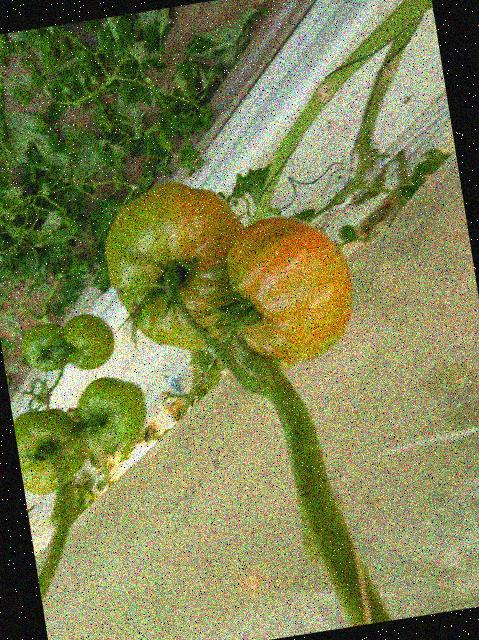b_green: (12, 403, 94, 497), (73, 371, 151, 451), (58, 310, 118, 373), (19, 321, 72, 375)
b_half_ripened: (96, 171, 262, 361), (219, 206, 365, 372)
